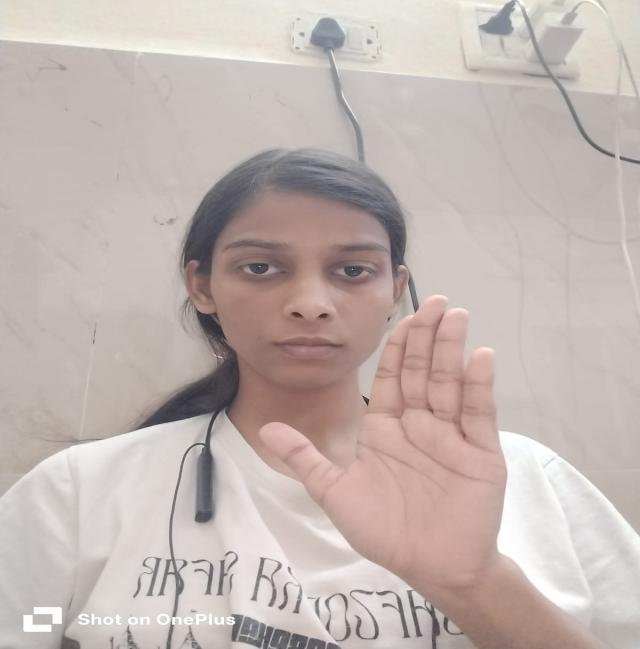Hello: (251, 295, 538, 600)
